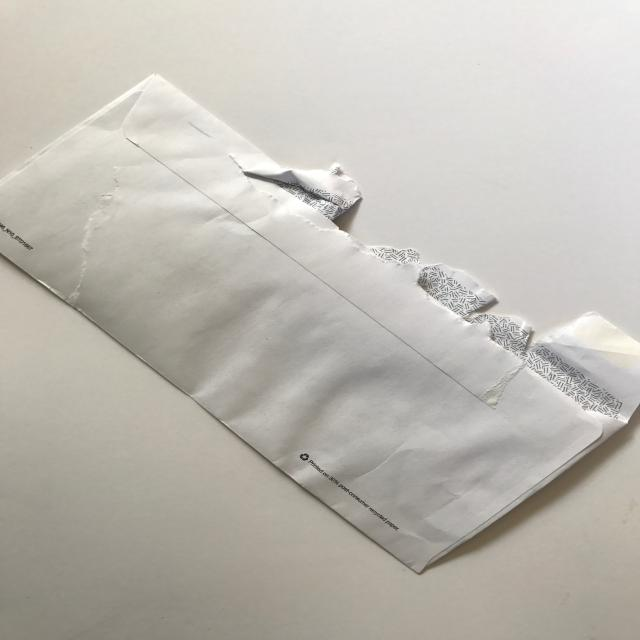paper: (1, 73, 639, 574)
